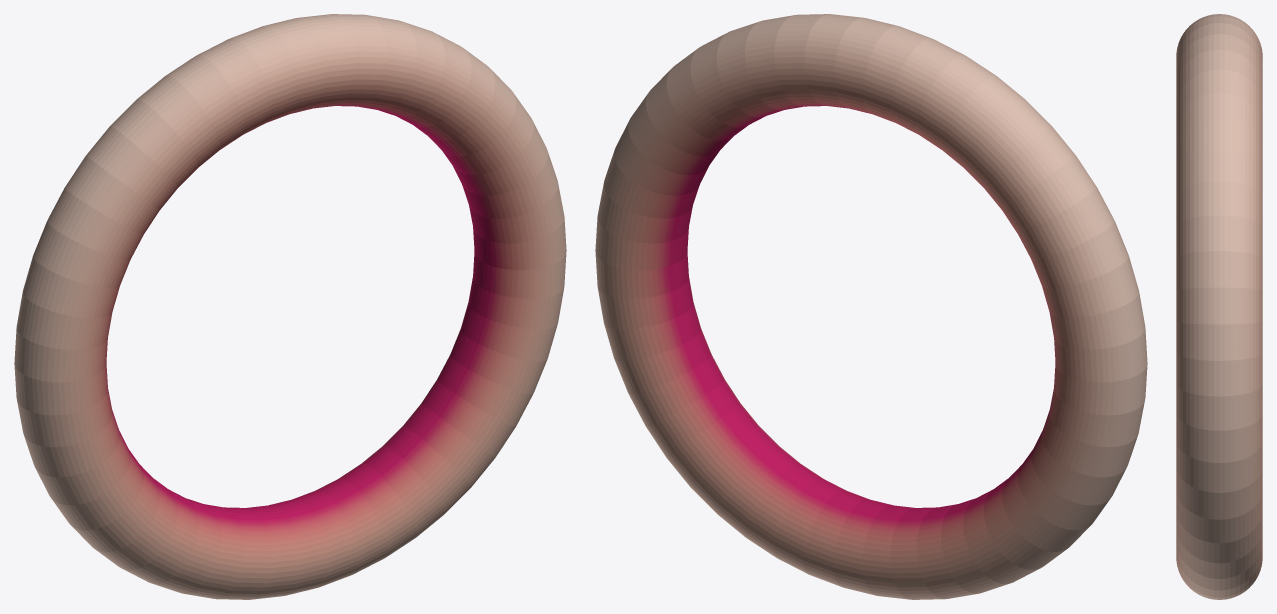
3 renders of one model, left to right at view 1: azimuth 30°, elevation 25°; view 2: azimuth 150°, elevation 25°; view 3: azimuth 270°, elevation 25°, orthographic. The views are drawn at different scales.
Visible parts, largest first — view 1: world; view 2: world; view 3: world.
Part boxes in pixels (x1,y1,x2,y2): world: (14, 14, 566, 599); world: (595, 14, 1147, 599); world: (1176, 14, 1262, 599).
Bounding box in the file's own units: 35.2 × 35.13 × 5.19.
